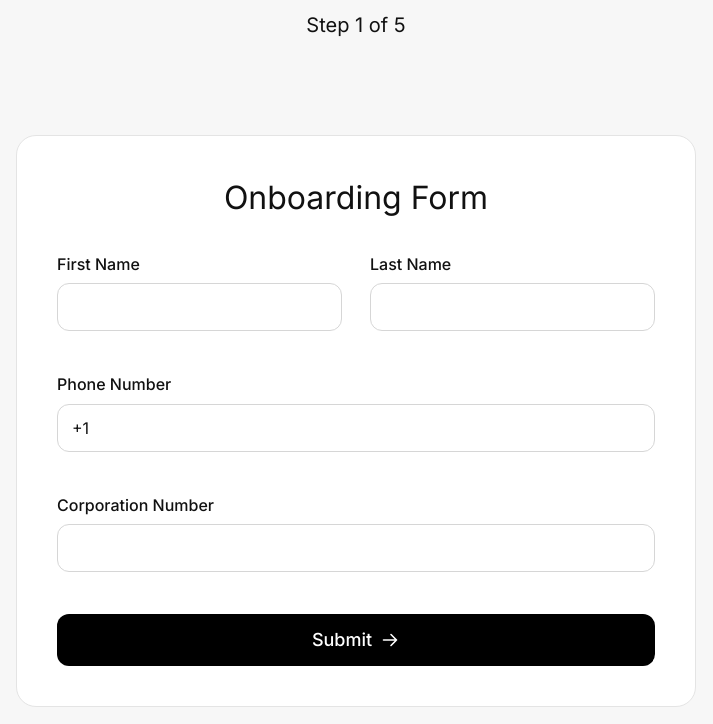
Test: onboarding form › shows required errors and focuses the first field on empty submit
Click the button "Submit" at [356, 640], box 57,614 -> 655,666
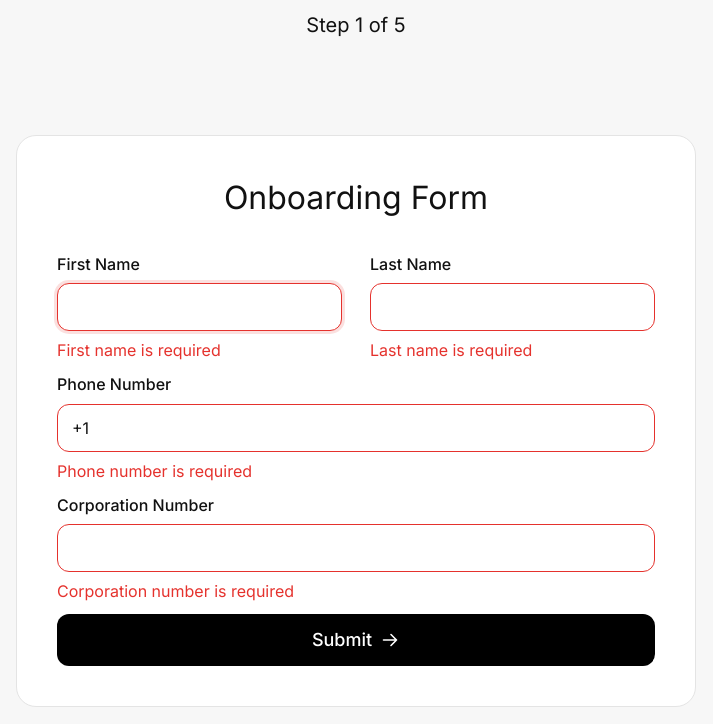
Expected: the text "First name is required" is shown, 57,340 -> 221,360
Expected: the text "Last name is required" is shown, 370,340 -> 532,360
Expected: the text "Phone number is required" is shown, 57,461 -> 252,481
